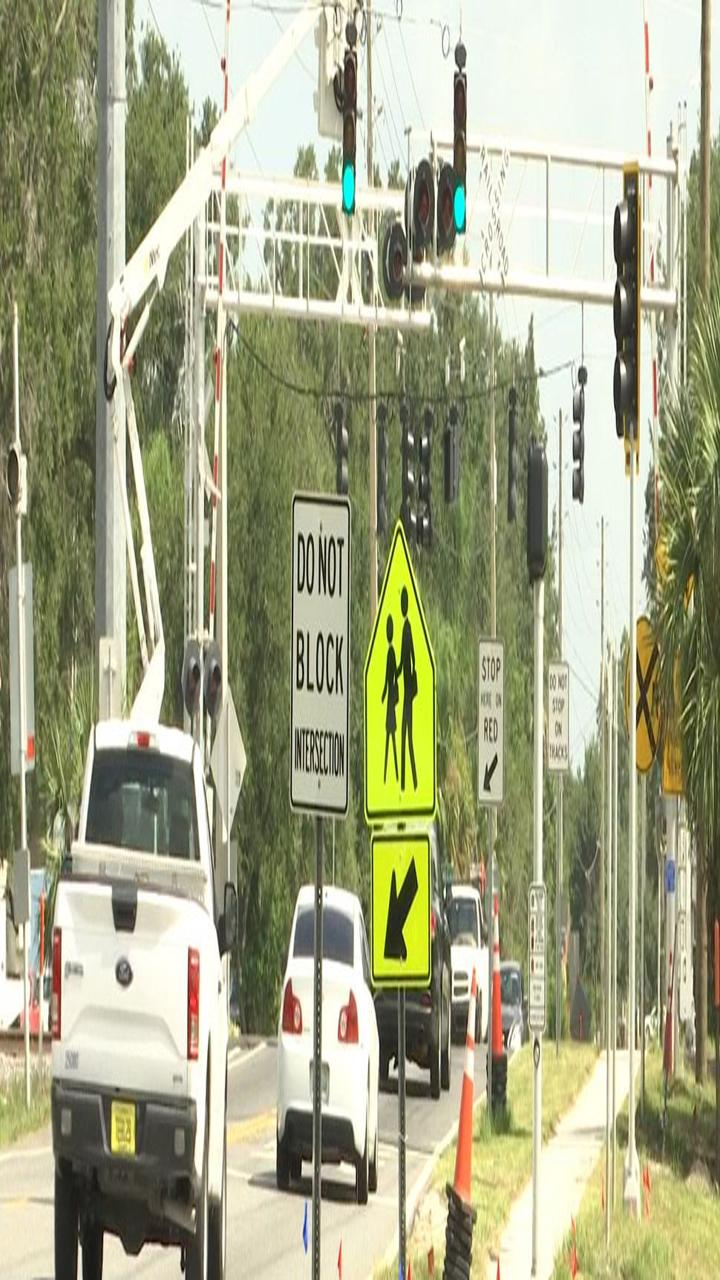Traffic sign: (356, 511, 447, 827), (363, 817, 446, 1008), (464, 636, 515, 812), (616, 614, 667, 790)
vehicle: (34, 715, 242, 1279), (256, 873, 396, 1264)
